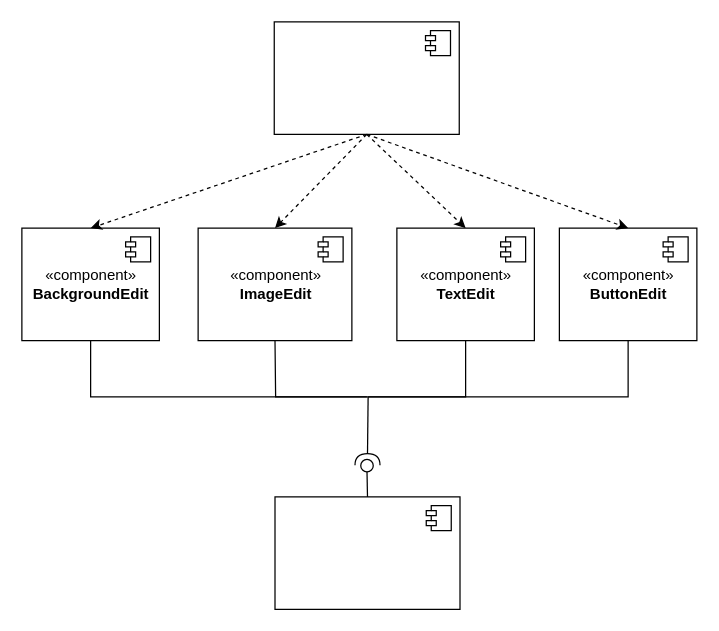
Some shapes in this 719 by 631 pixel diagram are drawn without their labels. The centre of each missing label's shape, as x and y in pixels:
"«component» Editor" goes at (x=366, y=77).
"«component» KonvaService" goes at (x=367, y=552).
